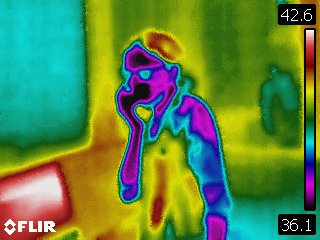human: (111, 26, 234, 240)
